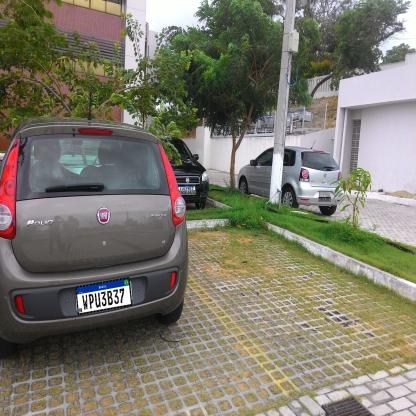PlacaM: (75, 277, 132, 315), (178, 185, 195, 191), (318, 197, 330, 201)
